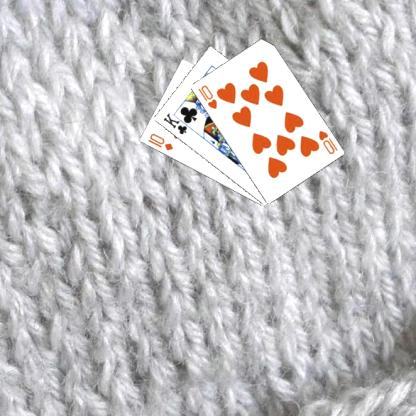10D: (145, 131, 174, 152)
10H: (315, 127, 339, 156), (195, 82, 218, 111)
KC: (160, 110, 194, 136)
